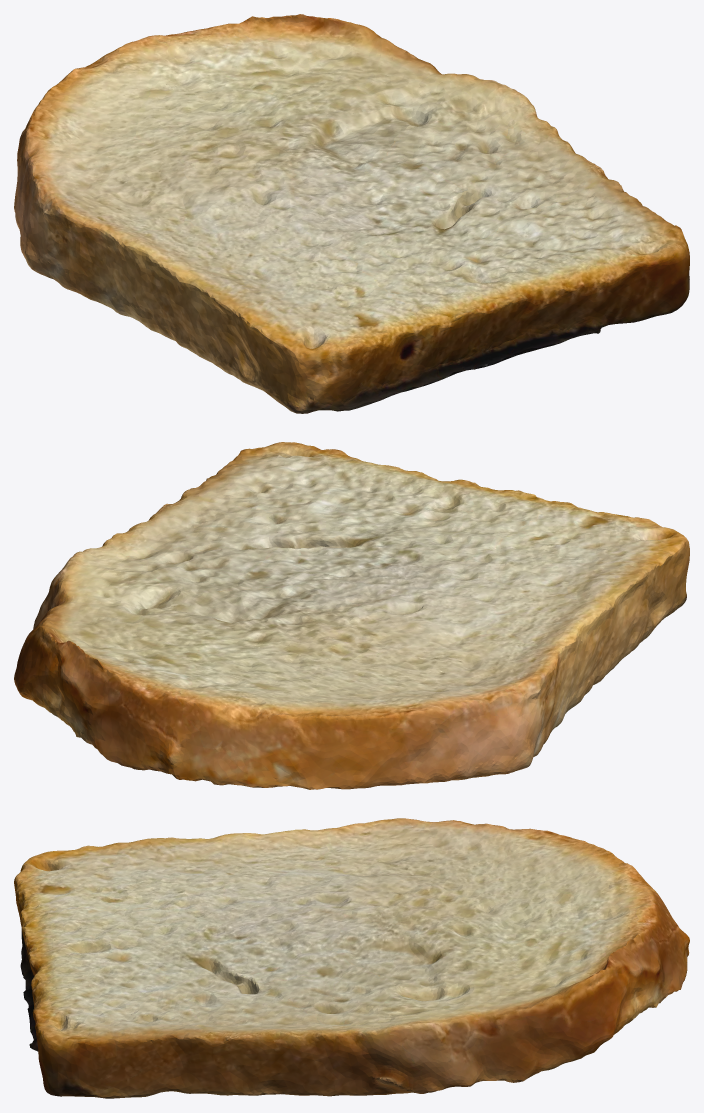
The model's file is White_C.glb.
3 views of the same model, one above another, from view 1: azimuth 30°, elevation 25°; view 2: azimuth 150°, elevation 25°; view 3: azimuth 270°, elevation 25° (orthographic). The views are drawn at different scales.
Size of the model in its own units: 0.1144 by 0.0247 by 0.1405.
Materials: 1 (1 with a texture image).
